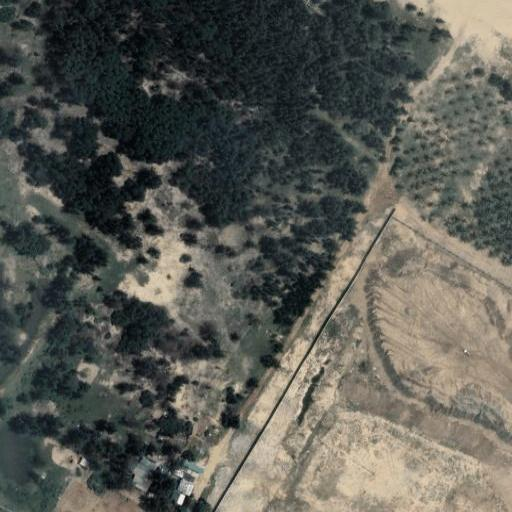building: (126, 471, 154, 496), (174, 477, 194, 497), (137, 454, 158, 472), (132, 464, 152, 480)
